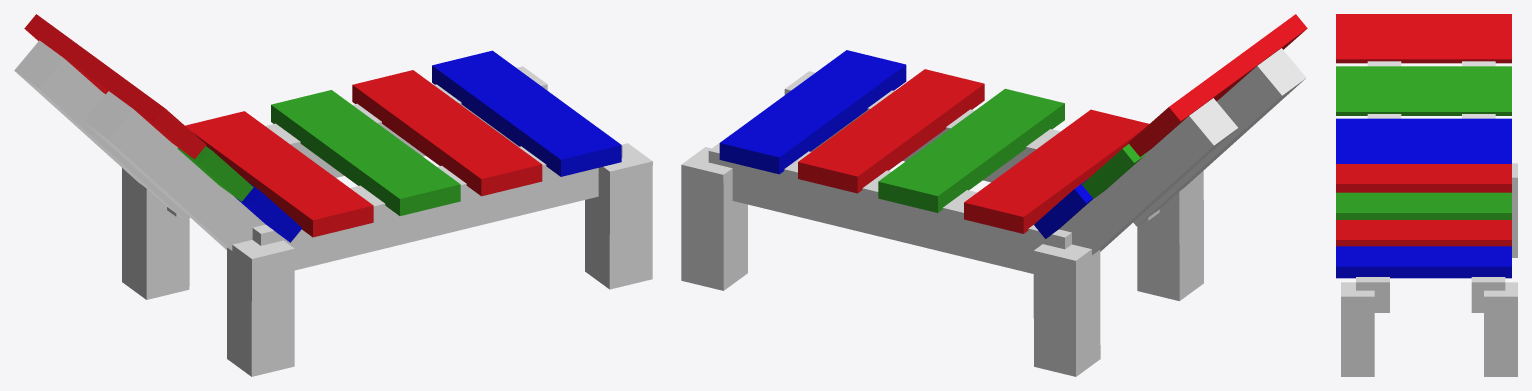
Rendered from chaise_longe.glb.
3 views of the same model, side by side, from view 1: azimuth 30°, elevation 25°; view 2: azimuth 150°, elevation 25°; view 3: azimuth 270°, elevation 25° (orthographic). The views are drawn at different scales.
Visible parts, largest first — view 1: Cube.006, Cube.007, Cube.005, Cube.001, Cube.004, Cube, Cube.011, Cube.012, Cube.014, Cube.003, Cube.010, Cube.009 (+2 smaller); view 2: Cube.002, Cube.007, Cube.006, Cube.005, Cube.004, Cube.003, Cube.014, Cube.013, Cube.011, Cube, Cube.010, Cube.009 (+2 smaller); view 3: Cube.009, Cube.010, Cube.008, Cube.007, Cube.004, Cube.005, Cube.006, Cube.012, Cube.013, Cube.001, Cube.002, Cube.014 (+2 smaller).
Boxes of the visible parts, x1,y1,x2,y2 form: Cube.006: (352,70,542,196); Cube.007: (432,50,621,176); Cube.005: (271,90,460,215); Cube.001: (252,128,622,270); Cube.004: (185,111,373,237); Cube: (83,91,265,250); Cube.011: (227,240,294,376); Cube.012: (585,143,652,289); Cube.014: (122,168,189,299); Cube.003: (14,40,189,221); Cube.010: (24,14,206,159); Cube.009: (177,146,253,201); Cube.002: (708,133,1071,273); Cube.007: (719,50,906,174); Cube.006: (798,69,984,193); Cube.005: (878,88,1064,212); Cube.004: (964,109,1148,233); Cube.003: (1059,98,1237,254); Cube.014: (1033,244,1100,376); Cube.013: (681,147,747,290); Cube.011: (1137,171,1203,300); Cube: (1133,48,1306,226); Cube.010: (1128,14,1307,156); Cube.009: (1082,144,1145,198); Cube.009: (1336,66,1511,115); Cube.010: (1336,14,1511,63); Cube.008: (1336,118,1511,163); Cube.007: (1336,246,1511,278); Cube.004: (1336,164,1511,192); Cube.005: (1336,192,1511,219); Cube.006: (1336,220,1511,246); Cube.012: (1341,282,1374,376); Cube.013: (1484,282,1517,376); Cube.001: (1356,277,1389,312); Cube.002: (1471,277,1505,312); Cube.014: (1512,163,1517,257).
Bounding box in the file's own units: 5.3 × 2.83 × 2.33.
